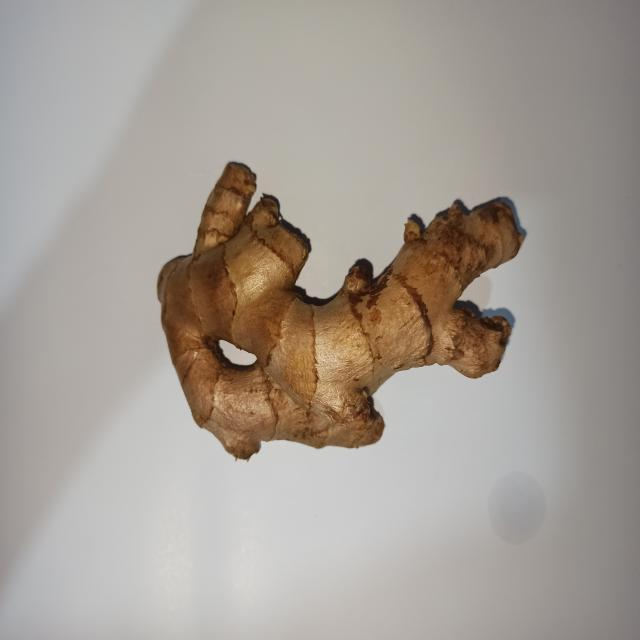ginger: (162, 174, 518, 468)
